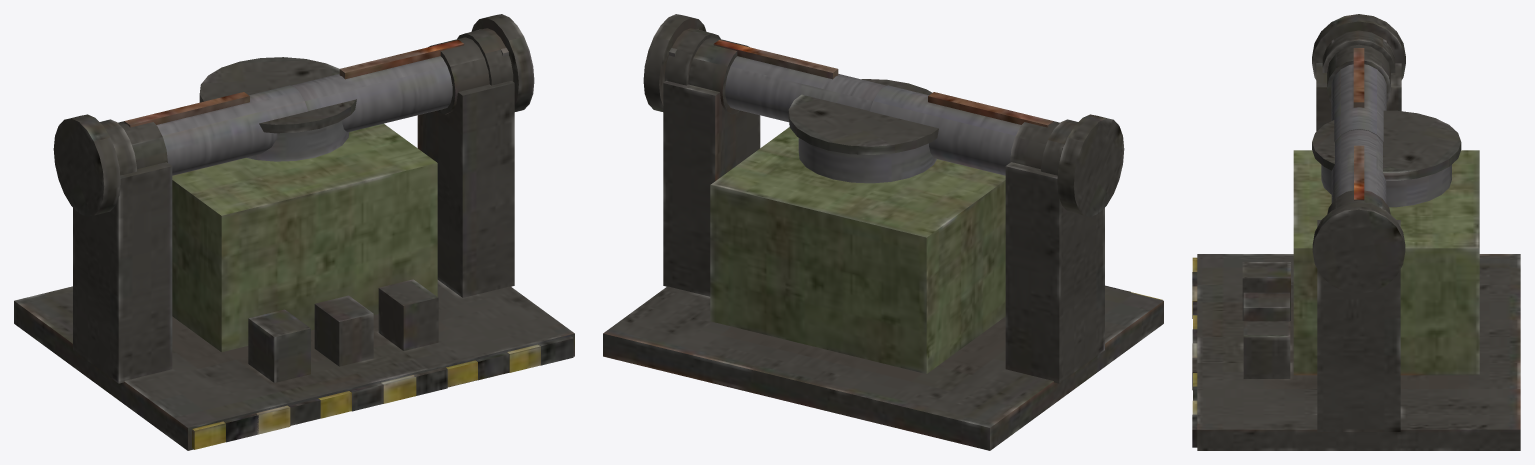
The model's file is feWireDrawer.glb.
3 views of the same model, side by side, from view 1: azimuth 30°, elevation 25°; view 2: azimuth 150°, elevation 25°; view 3: azimuth 270°, elevation 25° (orthographic). The views are drawn at different scales.
Parts seen in each view (by area): view 1: feWireDrawer_Base, FeSpin_DriveShaft, FeSpin_x1_Capstan; view 2: feWireDrawer_Base, FeSpin_DriveShaft, FeSpin_x1_Capstan; view 3: feWireDrawer_Base, FeSpin_DriveShaft, FeSpin_x1_Capstan.
Boxes of the visible parts, box(x1,y1,x2,y2) form: feWireDrawer_Base: box(14, 37, 574, 450); FeSpin_DriveShaft: box(53, 14, 534, 216); FeSpin_x1_Capstan: box(199, 57, 356, 161); feWireDrawer_Base: box(603, 37, 1163, 450); FeSpin_DriveShaft: box(643, 14, 1124, 216); FeSpin_x1_Capstan: box(788, 79, 938, 183); feWireDrawer_Base: box(1192, 44, 1520, 450); FeSpin_DriveShaft: box(1312, 14, 1405, 293); FeSpin_x1_Capstan: box(1312, 110, 1461, 207).
Size of the model in its own units: 1 by 0.6024 by 0.7121.
Materials: 1 (1 with a texture image).
